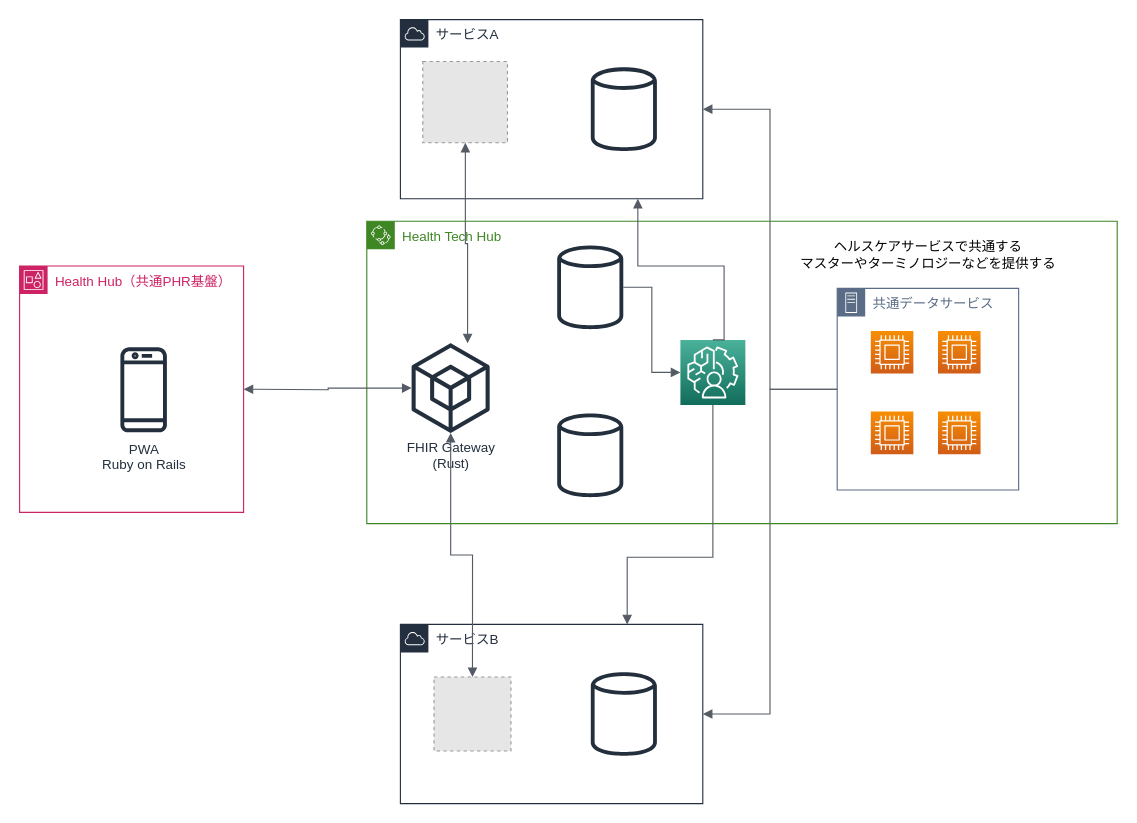
Some shapes in this 1137 by 823 pixel diagram are drawn without their labels. Grey dashed boxes stand in for pictures. The centre of each missing label's shape, as x and y in pixels:
"AIに活用し サービスに還元する" belongs at [712,372].
"サービス間個人情報マッピングDB" belongs at [590,454].
"個人情報を含まないした 医療データの蓄積" belongs at [590,286].
